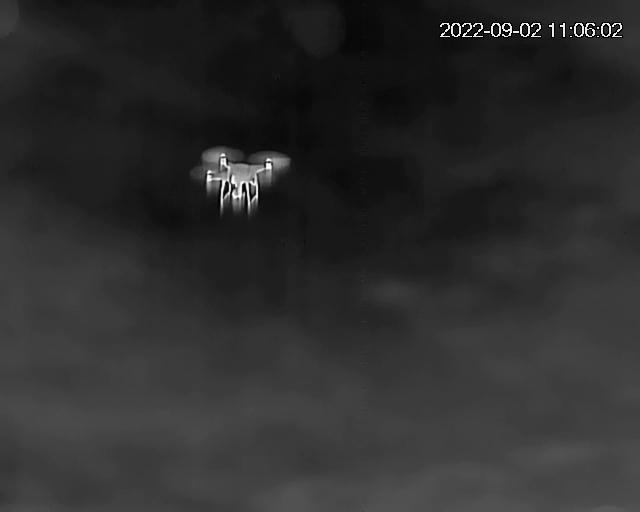DJI-Phantom: (190, 146, 293, 212)
